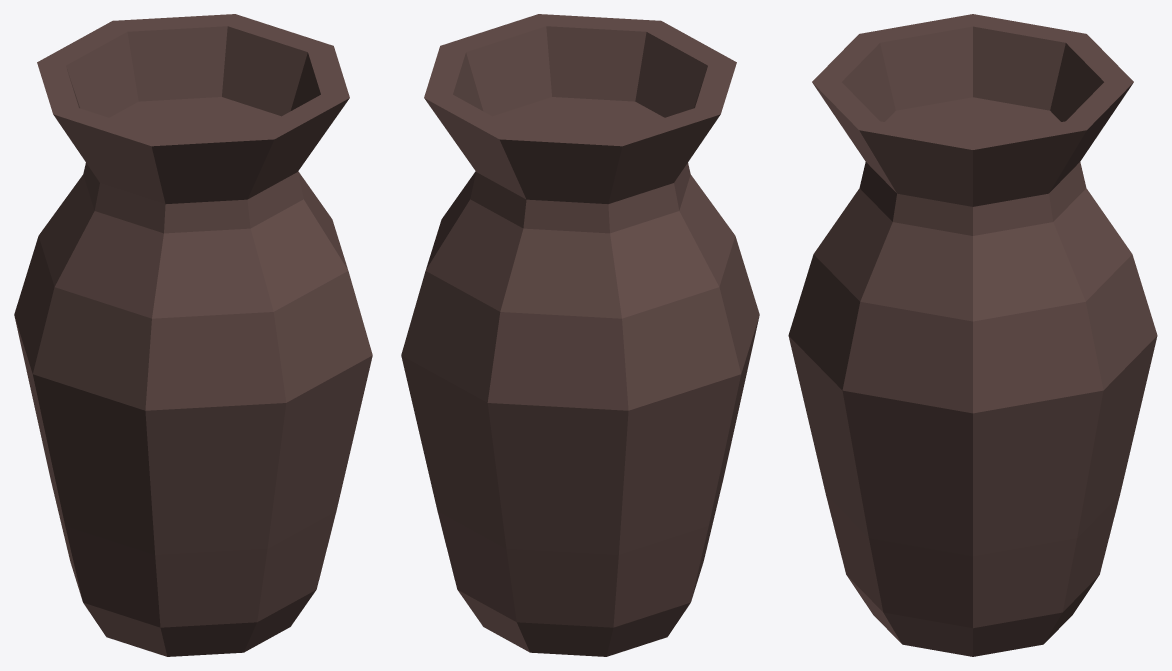
File: Vase.fbx
3 renders of one model, left to right at view 1: azimuth 30°, elevation 25°; view 2: azimuth 150°, elevation 25°; view 3: azimuth 270°, elevation 25°, orthographic.
Visible parts, largest first — view 1: pCylinder1; view 2: pCylinder1; view 3: pCylinder1.
Boxes of the visible parts, x1=… form: pCylinder1: x1=14, y1=14, x2=372, y2=656; pCylinder1: x1=401, y1=14, x2=759, y2=656; pCylinder1: x1=788, y1=14, x2=1157, y2=656.
Bounding box in the file's own units: 3.69 × 5.88 × 3.69.
